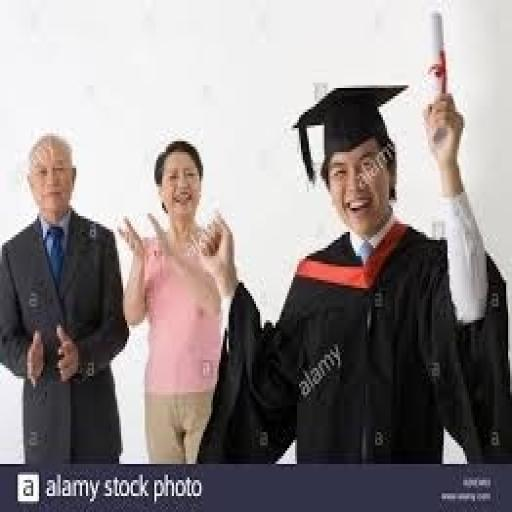clapping: (0, 128, 129, 464), (116, 136, 234, 464)
